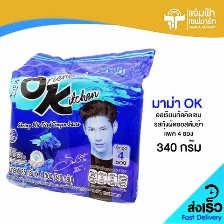snack: (0, 41, 160, 209)
